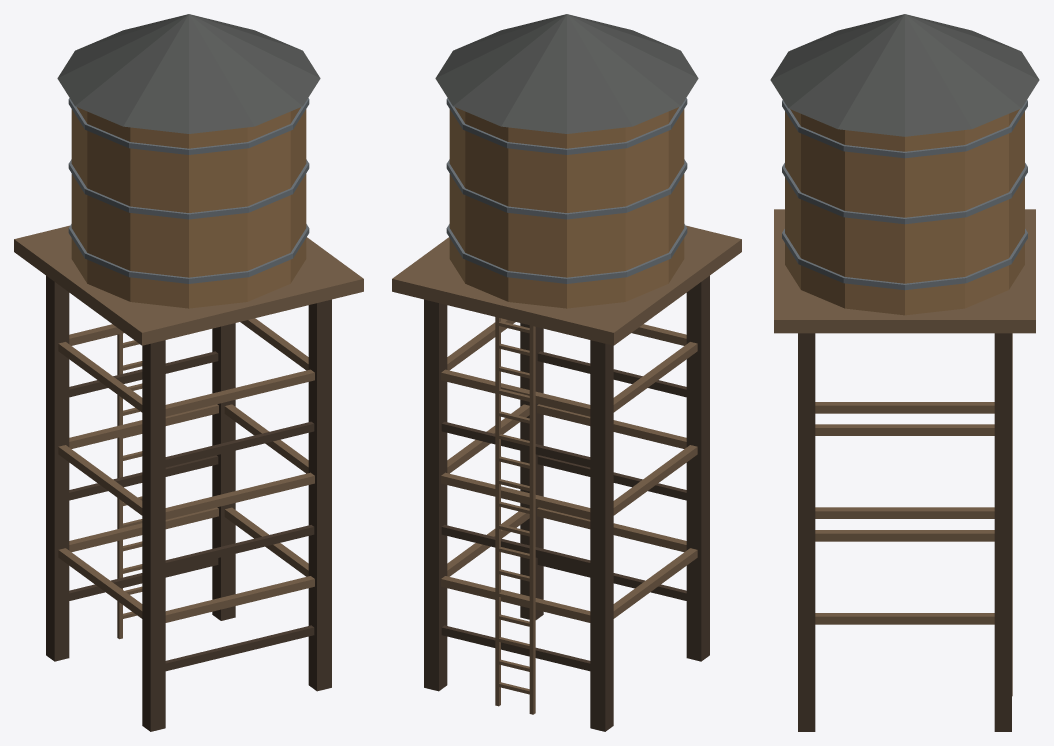
Rendered from water_tower.glb.
The picture shows the model from 3 angles, left to right: view 1: azimuth 30°, elevation 25°; view 2: azimuth 150°, elevation 25°; view 3: azimuth 270°, elevation 25°; orthographic projection. The views are drawn at different scales.
Visible parts, largest first — view 1: water_tower; view 2: water_tower; view 3: water_tower.
Part boxes in pixels (left/top/right/bottom): water_tower: left=14, top=14, right=363, bottom=731; water_tower: left=392, top=14, right=741, bottom=731; water_tower: left=770, top=14, right=1039, bottom=731.
Size of what is drawn, in the model's own units: 3.7 by 10.2 by 3.7.
Materials: 1 (1 with a texture image).
